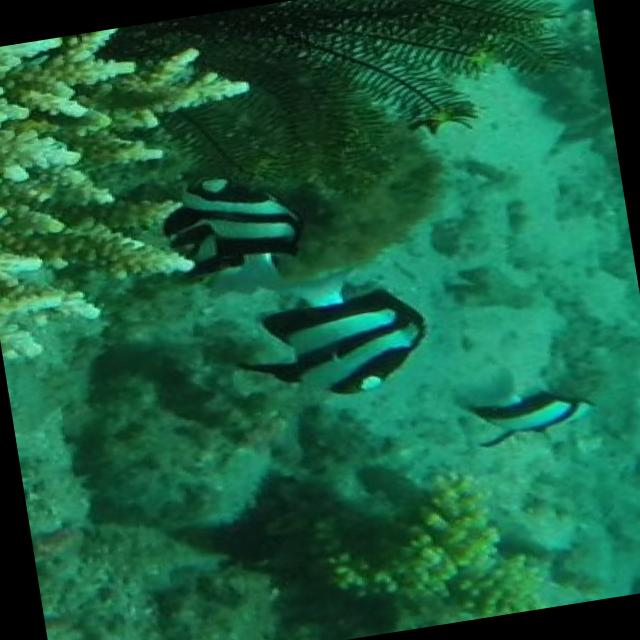ThreeStripedDamselfish: (227, 285, 425, 395), (162, 177, 299, 294), (455, 370, 590, 448)
